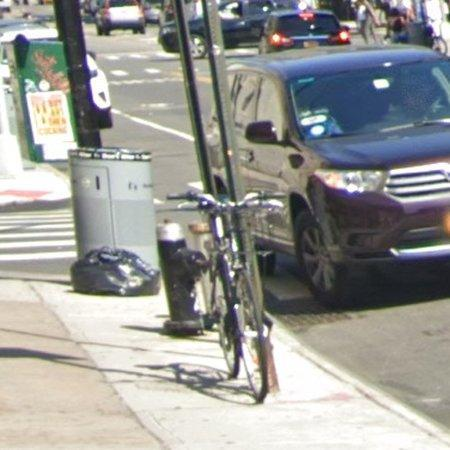bicycles: (170, 192, 273, 404)
